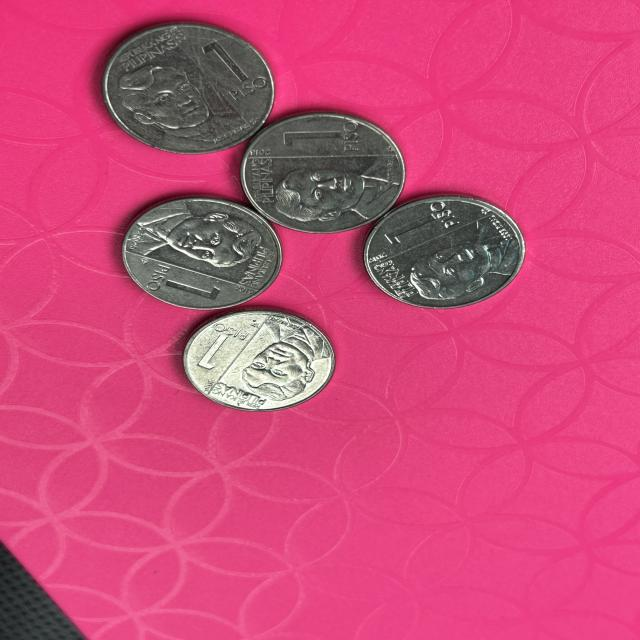1_New_Front: (191, 35, 268, 103), (140, 264, 229, 306), (277, 120, 368, 155), (196, 320, 250, 374), (380, 203, 462, 236)
